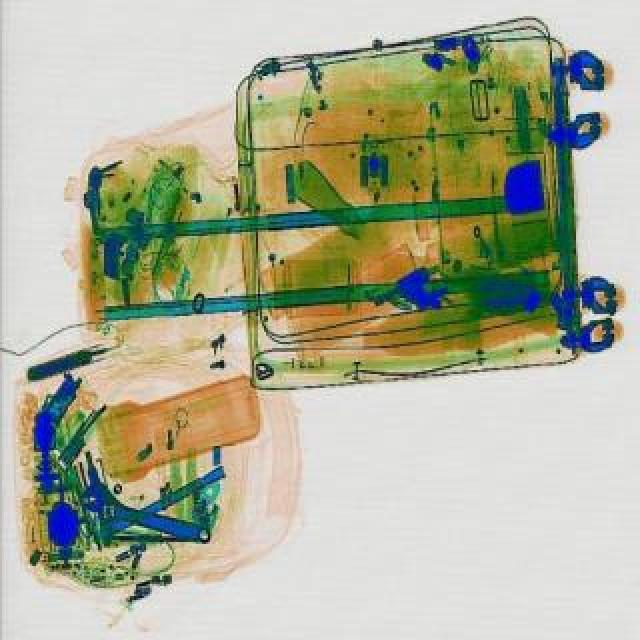scissors: (70, 476, 218, 558)
